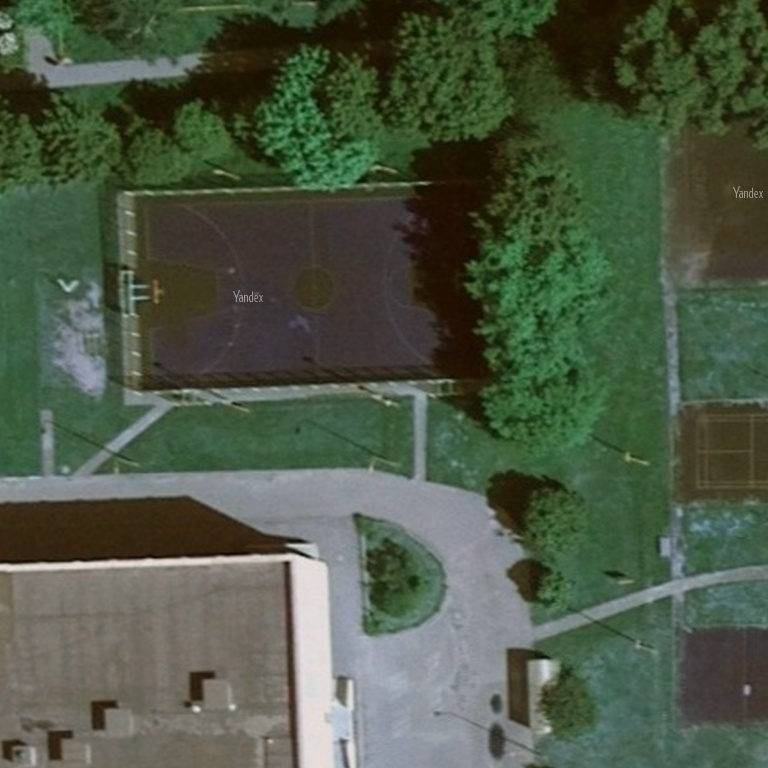basket_court: (106, 164, 527, 410)
